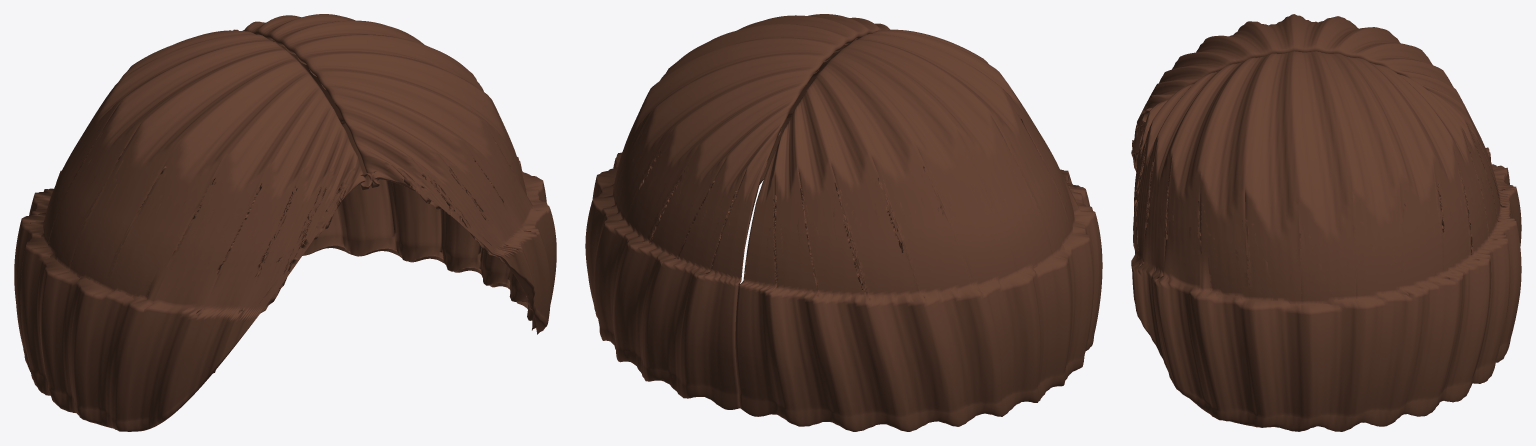
Rendered from Masculine-middle-part-beanie252-hair.glb.
3 views of the same model, side by side, from view 1: azimuth 30°, elevation 25°; view 2: azimuth 150°, elevation 25°; view 3: azimuth 270°, elevation 25° (orthographic). The views are drawn at different scales.
Parts seen in each view (by area): view 1: 226 hair / Hair252 / flowing sculpt middle.001; view 2: 226 hair / Hair252 / flowing sculpt middle.001; view 3: 226 hair / Hair252 / flowing sculpt middle.001.
Boxes of the visible parts, box(x1,y1,x2,y2) form: 226 hair / Hair252 / flowing sculpt middle.001: box(14, 14, 556, 431); 226 hair / Hair252 / flowing sculpt middle.001: box(585, 14, 1102, 431); 226 hair / Hair252 / flowing sculpt middle.001: box(1131, 14, 1521, 431).
Size of the model in its own units: 1.06 by 0.6587 by 0.8121.
